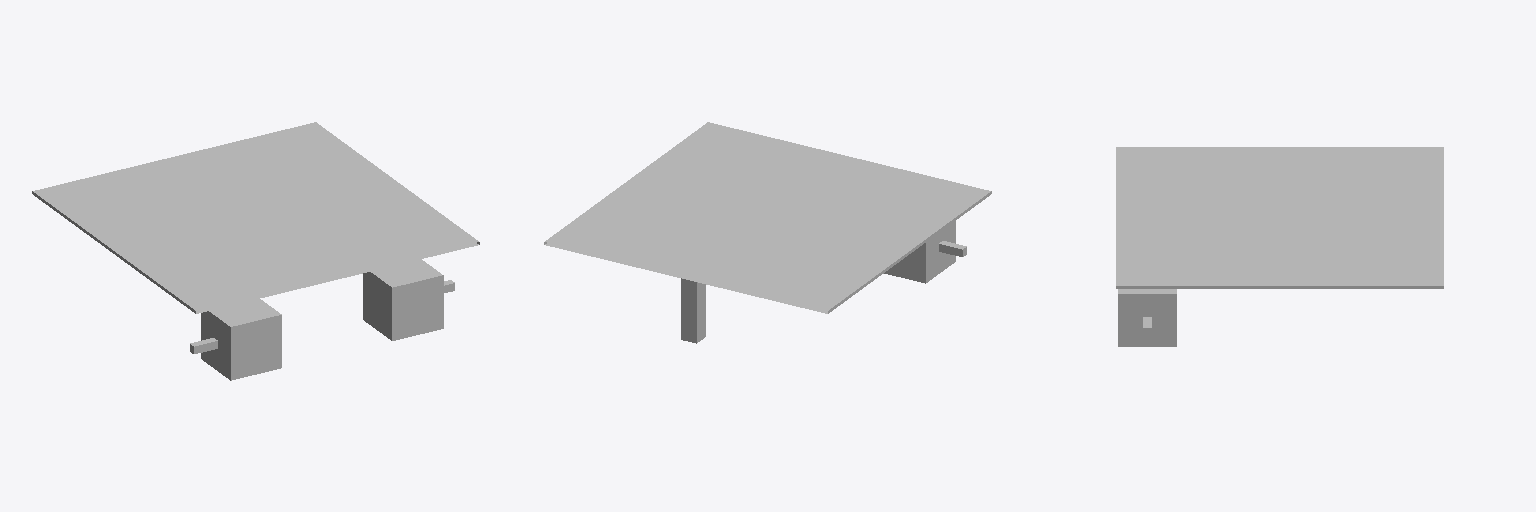
The model's file is Chassis_Collider_3.obj.
3 views of the same model, side by side, from view 1: azimuth 30°, elevation 25°; view 2: azimuth 150°, elevation 25°; view 3: azimuth 270°, elevation 25° (orthographic).
Visible parts, largest first — view 1: Chassis_Collider_Plane.001; view 2: Chassis_Collider_Plane.001; view 3: Chassis_Collider_Plane.001.
Boxes of the visible parts, x1,y1,x2,y2 form: Chassis_Collider_Plane.001: [32, 122, 479, 380]; Chassis_Collider_Plane.001: [544, 122, 991, 343]; Chassis_Collider_Plane.001: [1116, 147, 1443, 346].
Size of the model in its own units: 27.66 by 7.36 by 27.66.